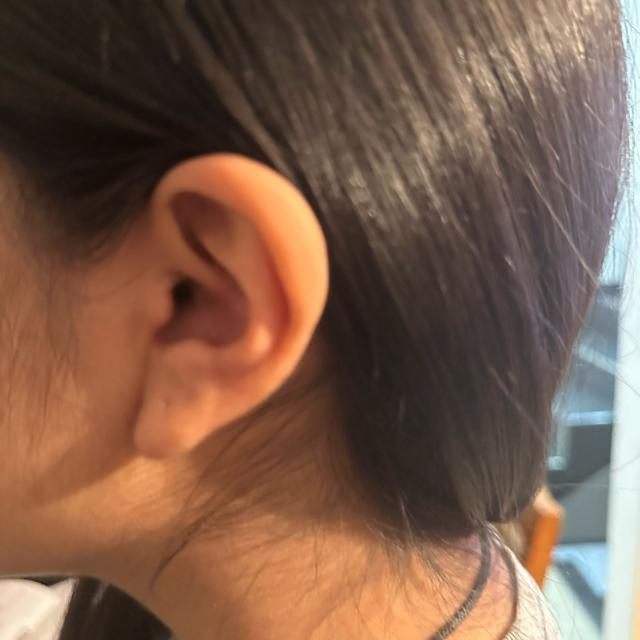ear: (128, 154, 329, 458)
